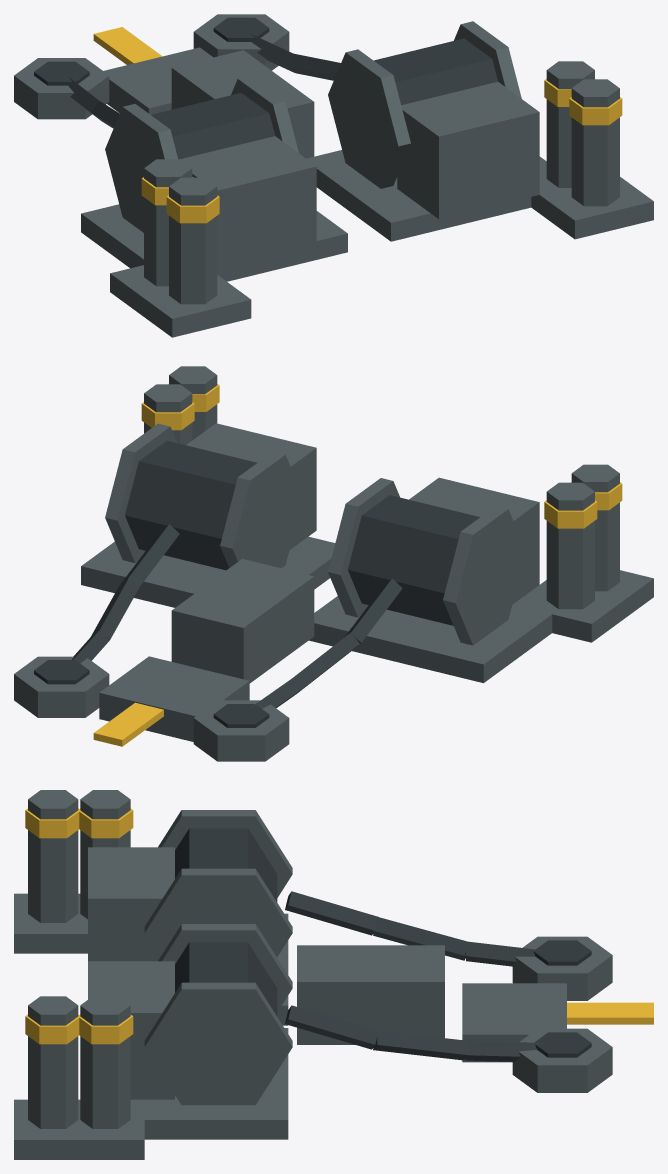
Rendered from HULL_BowFittings.fbx.
The picture shows the model from 3 angles, top to bottom: view 1: azimuth 30°, elevation 25°; view 2: azimuth 150°, elevation 25°; view 3: azimuth 270°, elevation 25°; orthographic projection. The views are drawn at different scales.
Parts seen in each view (by area): view 1: StarboardWindlassMotor, PortWindlassMotor, StarboardDrumInnerFlange, StarboardWindlassBed, CableStopper, StarboardBollard, PortBollard, PortBittBase, PortWindlassDrum, StarboardWindlassDrum, PortDrumOuterFlange, PortWindlassBed (+18 smaller); view 2: CableStopper, PortWindlassDrum, StarboardWindlassDrum, PortWindlassBed, PortDrumOuterFlange, StarboardDrumInnerFlange, ChainLockerHatch, StarboardWindlassBed, PortBollard.001, PortWindlassMotor, StarboardWindlassMotor, PortBittBase (+18 smaller); view 3: StarboardDrumOuterFlange, CableStopper, PortWindlassMotor, PortDrumInnerFlange, StarboardWindlassBed, StarboardWindlassMotor, ChainLockerHatch, StarboardBollard.001, StarboardBollard, PortBollard, StarboardBittBase, StarboardHawseCover (+20 smaller).
Part boxes in pixels (x1,y1,x2,y2): StarboardWindlassMotor: (397,82,539,219); PortWindlassMotor: (180,136,316,273); StarboardDrumInnerFlange: (328,49,410,188); StarboardWindlassBed: (306,150,551,241); CableStopper: (171,50,314,158); StarboardBollard: (571,79,619,206); PortBollard: (169,177,217,304); PortBittBase: (110,265,251,337); PortWindlassDrum: (151,93,274,159); StarboardWindlassDrum: (374,38,497,105); PortDrumOuterFlange: (105,104,177,232); PortWindlassBed: (81,204,347,281); CableStopper: (171,559,314,683); PortWindlassDrum: (348,495,480,625); StarboardWindlassDrum: (125,440,257,570); PortWindlassBed: (309,594,552,683); PortDrumOuterFlange: (443,506,525,645); StarboardDrumInnerFlange: (220,451,302,568); ChainLockerHatch: (99,656,249,741); StarboardWindlassBed: (81,536,335,607); PortBollard.001: (546,482,594,609); PortWindlassMotor: (409,477,539,604); StarboardWindlassMotor: (186,423,316,549); PortBittBase: (513,570,653,642); StarboardDrumOuterFlange: (144,982,292,1105); CableStopper: (297,945,444,1044); PortWindlassMotor: (88,847,174,961); PortDrumInnerFlange: (144,868,292,957); StarboardWindlassBed: (144,1028,288,1139); StarboardWindlassMotor: (88,961,174,1099); ChainLockerHatch: (462,983,566,1062); StarboardBollard.001: (80,996,130,1128); StarboardBollard: (28,996,78,1128); PortBollard: (28,790,78,922); StarboardBittBase: (14,1099,144,1159); StarboardHawseCover: (512,1028,612,1092).
Bounding box in the file's own units: 134 × 34.72 × 147.
